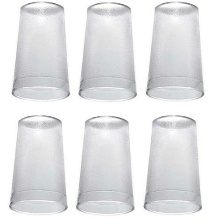glass: (140, 0, 212, 105), (137, 111, 203, 223), (75, 0, 143, 107), (9, 0, 74, 111), (71, 117, 135, 217), (8, 113, 68, 218)
